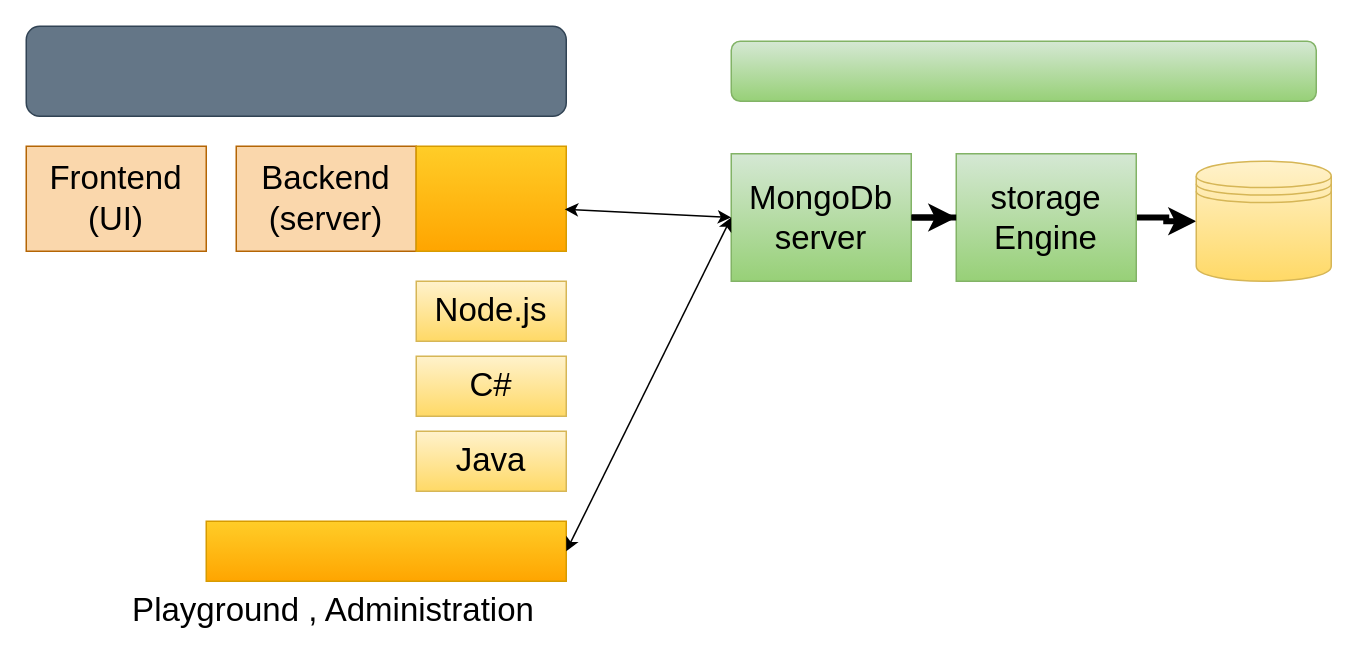
Image size: 1358x657. Some labels were removed from this diagram. Here are the shapes that lost their labels. From the top down, the centre of each, then its label:
pixel 295 70: Application
pixel 1023 70: Data
pixel 490 198: Drivers
pixel 385 550: MongoDbShell
